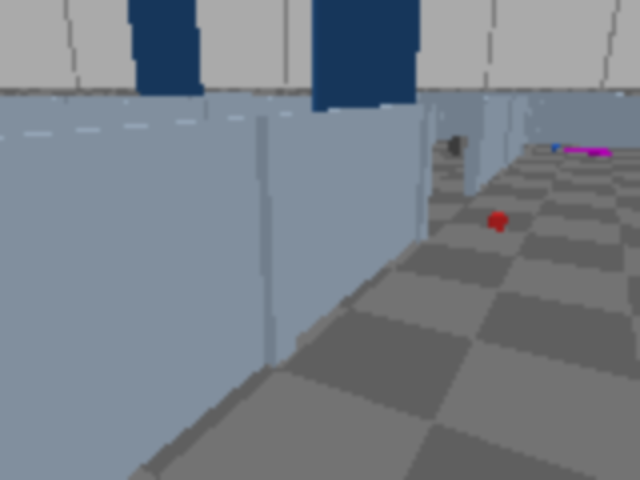goal_zone: (561, 147, 611, 155)
obstacle: (449, 135, 473, 155)
puck: (489, 212, 507, 230)
